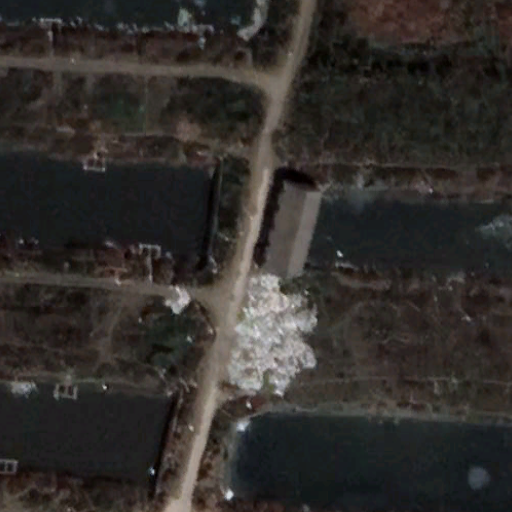msw: (231, 275, 321, 398)
